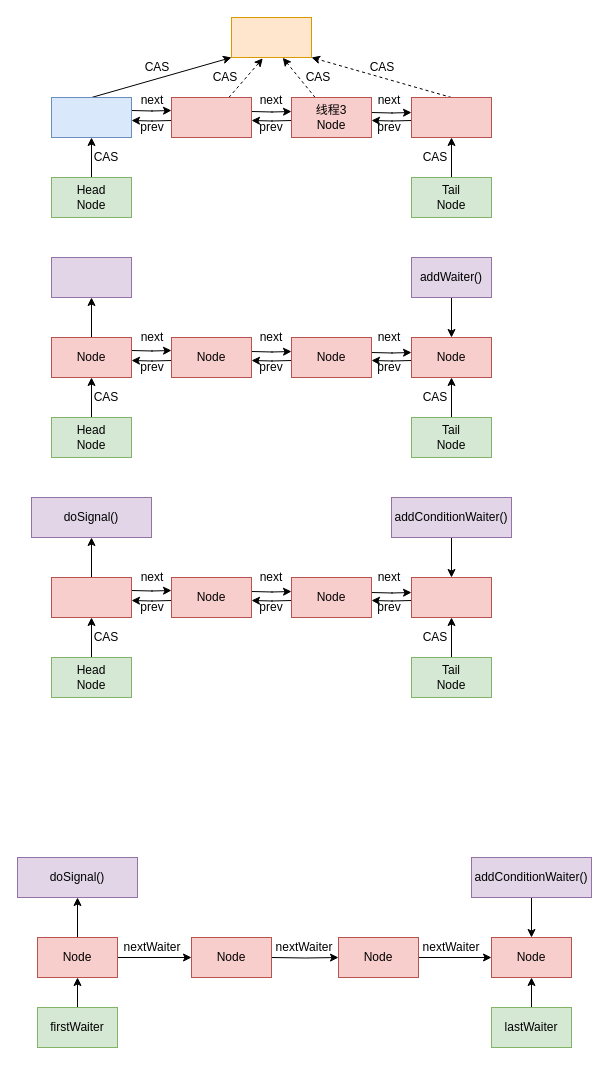
Image size: 609x1065. Some labels were removed from this diagram. The centre of each missing label's shape, as x and y in pixels:
acquire(): the point at 91,277
Node firstWaiter: the point at 91,597
Node lastWaiter: the point at 451,597
state状态: the point at 271,37
线程1 Node 占用资源: the point at 91,117
线程2 Node: the point at 211,117
线程4 Node: the point at 451,117
